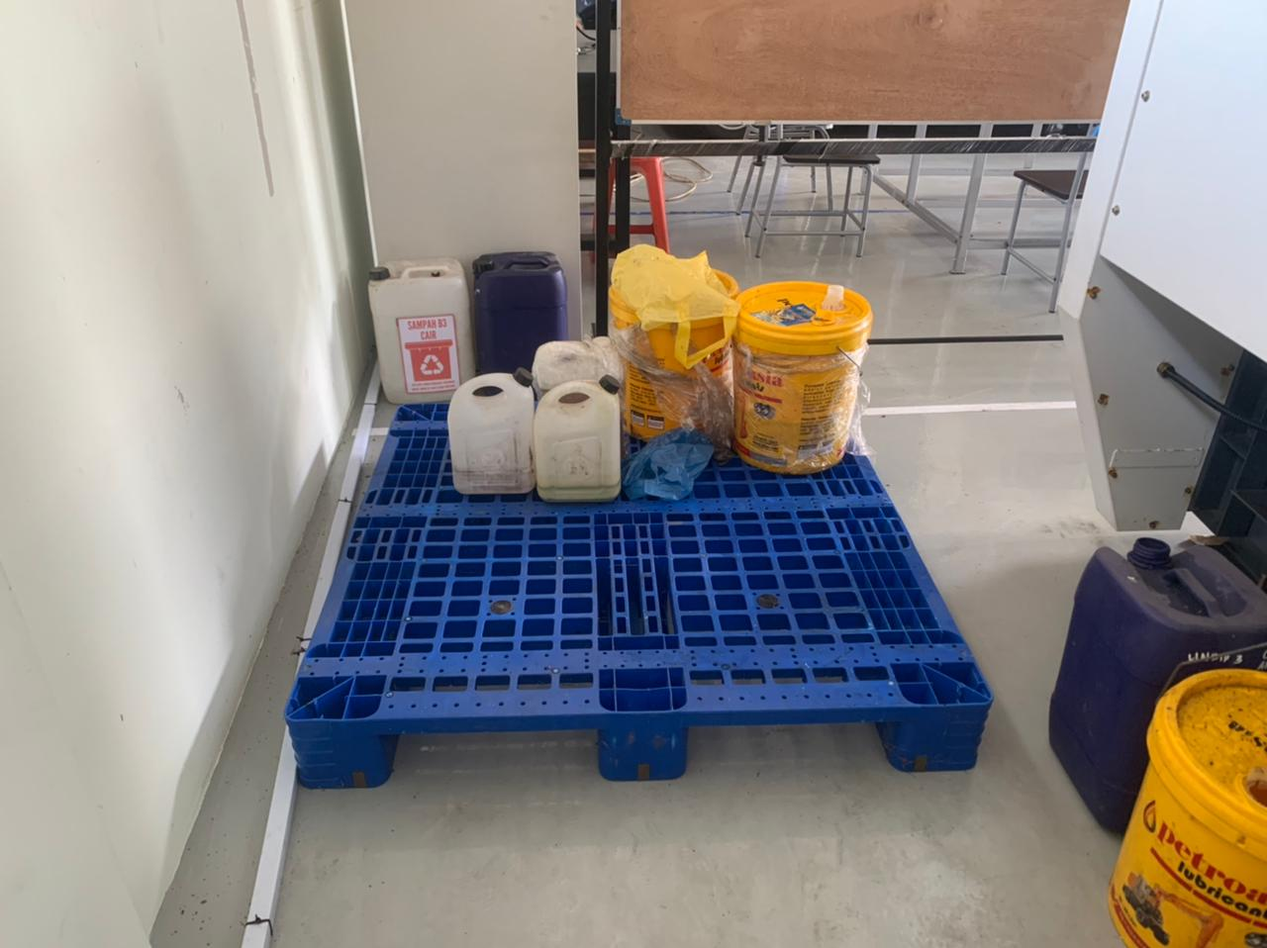block: (892, 702, 996, 772), (287, 720, 388, 785), (599, 710, 693, 777)
front: (287, 707, 987, 789)
hole pallet: (374, 727, 604, 784), (680, 715, 897, 775)
